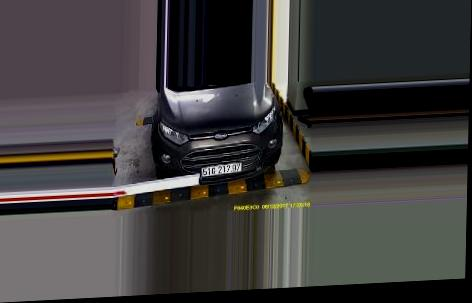License_Plate: (202, 161, 243, 177)
